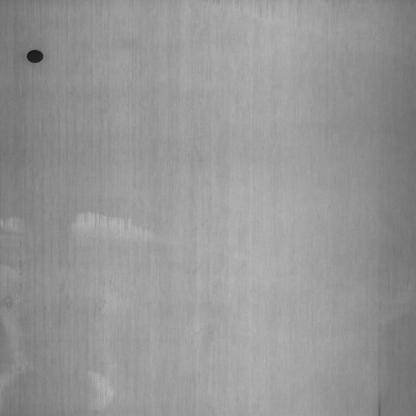punching_hole: (24, 46, 46, 69)
